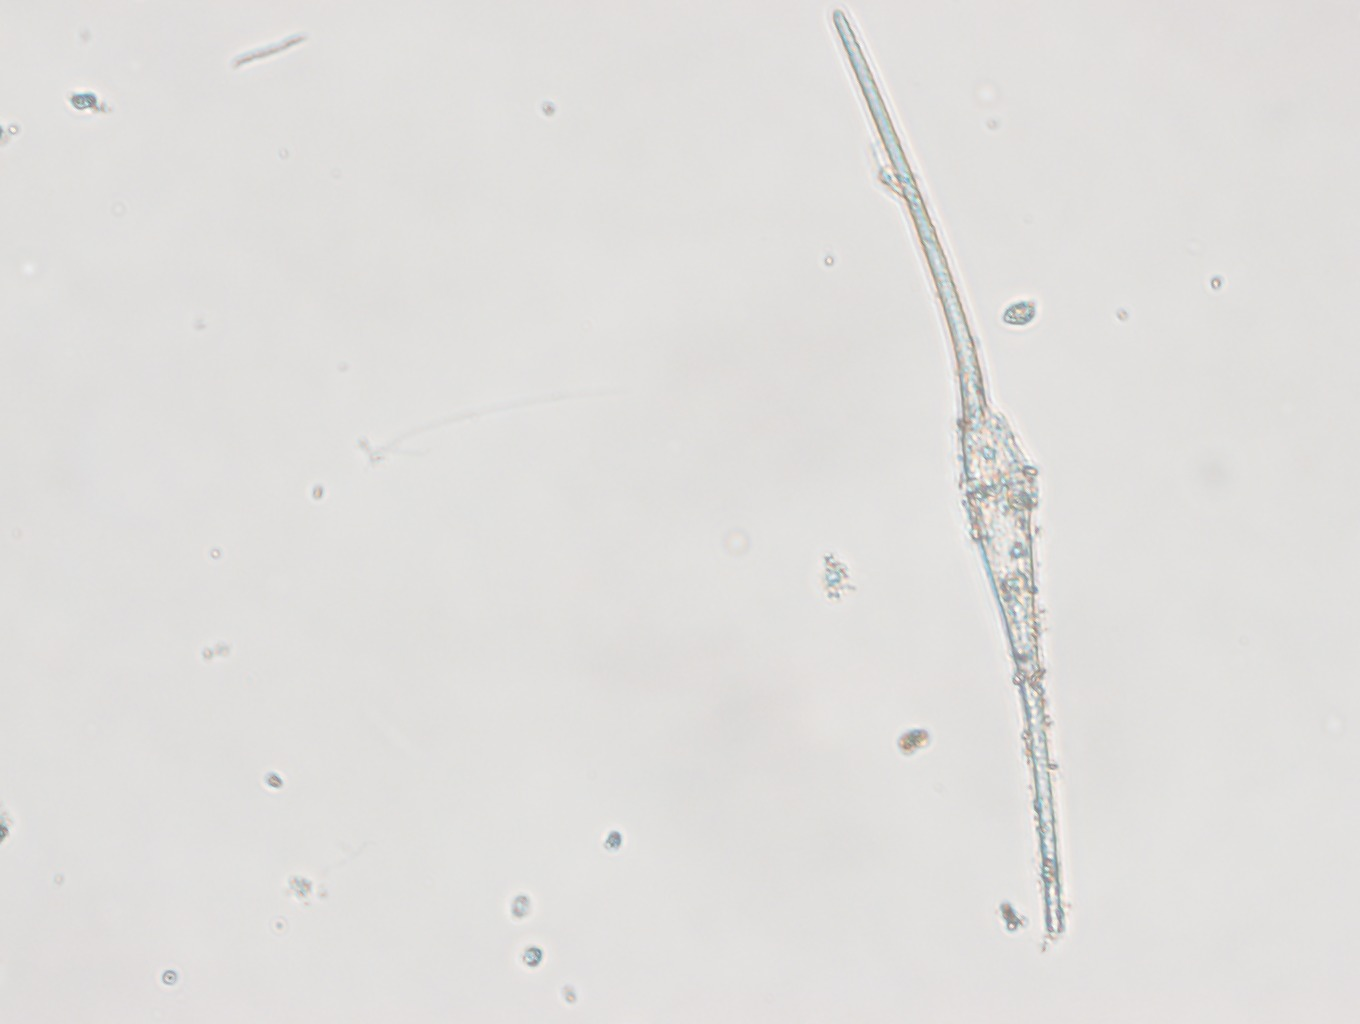ceratium fusus: (828, 9, 1068, 937)
